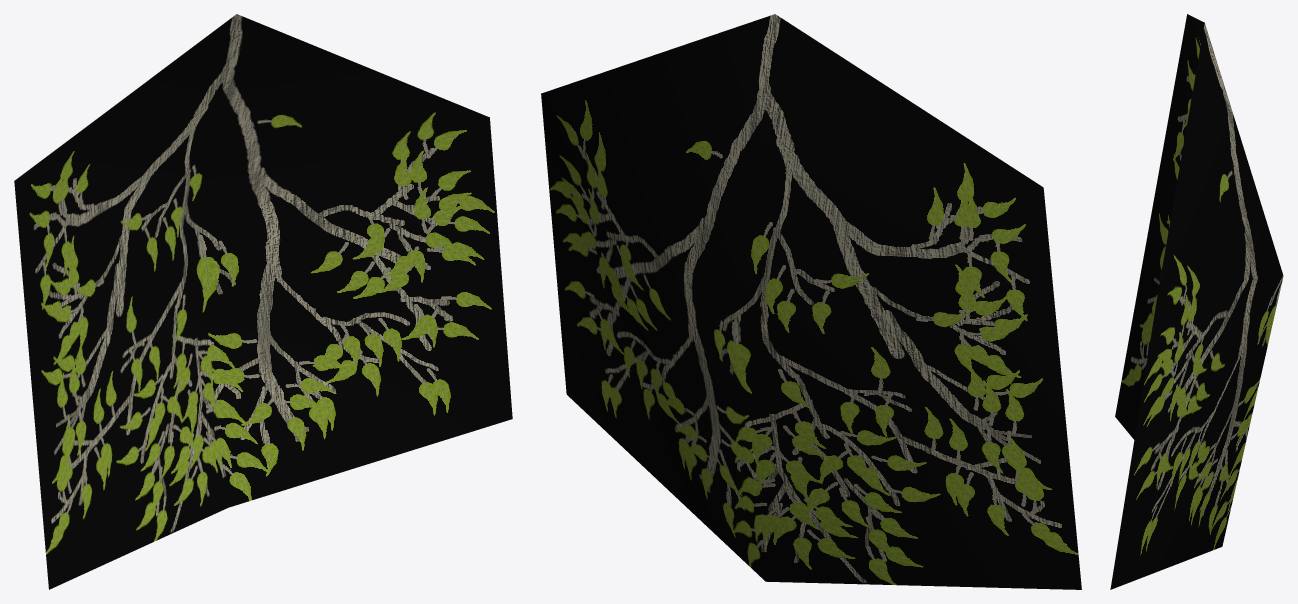
Rendered from LeafMesh1.fbx.
3 views of the same model, side by side, from view 1: azimuth 30°, elevation 25°; view 2: azimuth 150°, elevation 25°; view 3: azimuth 270°, elevation 25° (orthographic). The views are drawn at different scales.
Parts seen in each view (by area): view 1: LeafMesh1; view 2: LeafMesh1; view 3: LeafMesh1.
Boxes of the visible parts, x1=… form: LeafMesh1: x1=14, y1=14, x2=512, y2=589; LeafMesh1: x1=541, y1=14, x2=1081, y2=589; LeafMesh1: x1=1110, y1=14, x2=1283, y2=589.
Size of the model in its own units: 2 by 2.07 by 0.6195.
